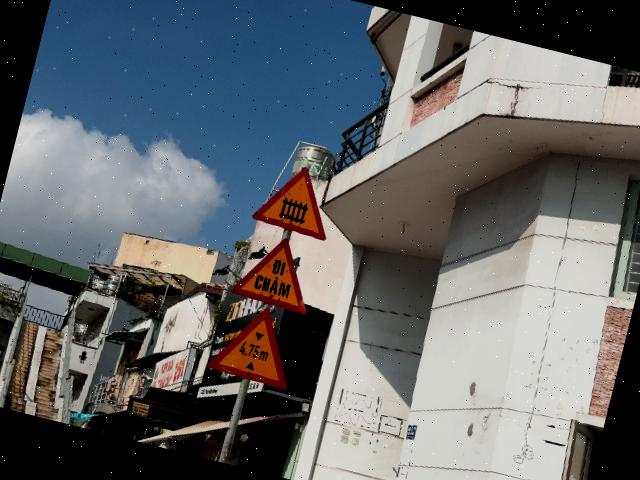chieu-cao-tinh-khong-thuc-te: (204, 297, 304, 391)
di-cham: (230, 228, 322, 315)
noi-giao-nhau-voi-duong-sat-co-rao-chan: (250, 156, 342, 242)
